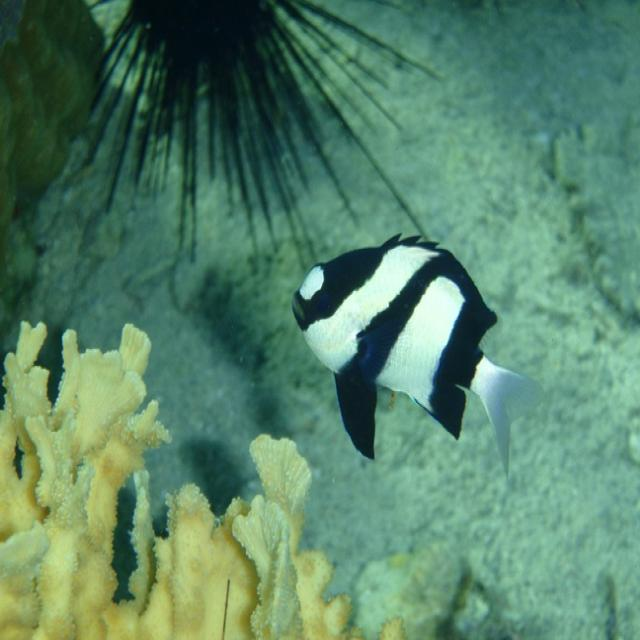ThreeStripedDamselfish: (294, 230, 553, 476)
